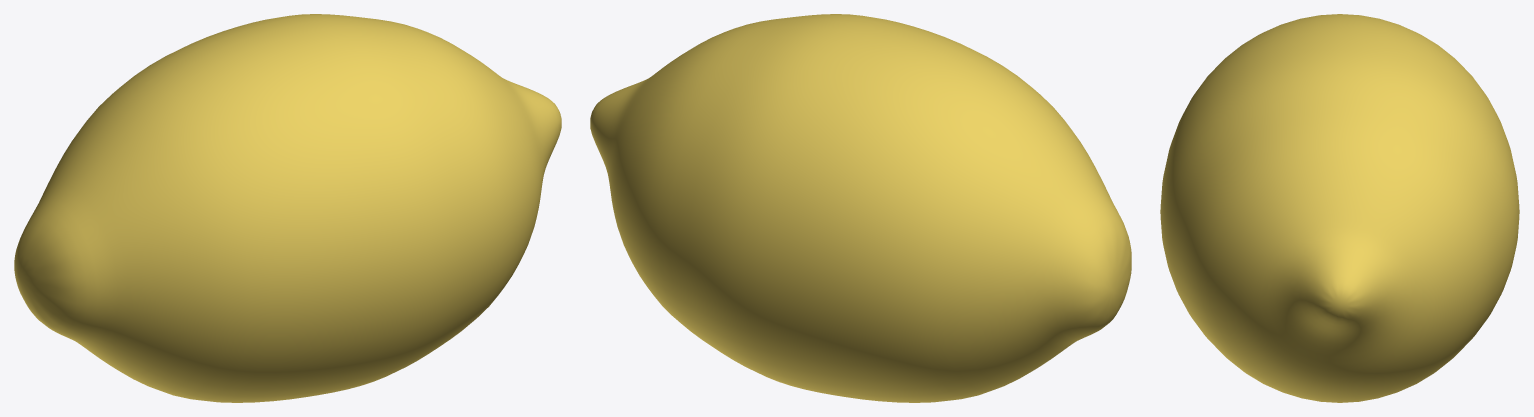
3 renders of one model, left to right at view 1: azimuth 30°, elevation 25°; view 2: azimuth 150°, elevation 25°; view 3: azimuth 270°, elevation 25°, orthographic. The views are drawn at different scales.
Visible parts, largest first — view 1: Lemonwhole; view 2: Lemonwhole; view 3: Lemonwhole.
Part boxes in pixels (left/top/right/bottom): Lemonwhole: left=14, top=14, right=561, bottom=402; Lemonwhole: left=590, top=14, right=1131, bottom=402; Lemonwhole: left=1160, top=14, right=1519, bottom=402.
Size of the model in its own units: 0.1106 by 0.0686 by 0.0686.
